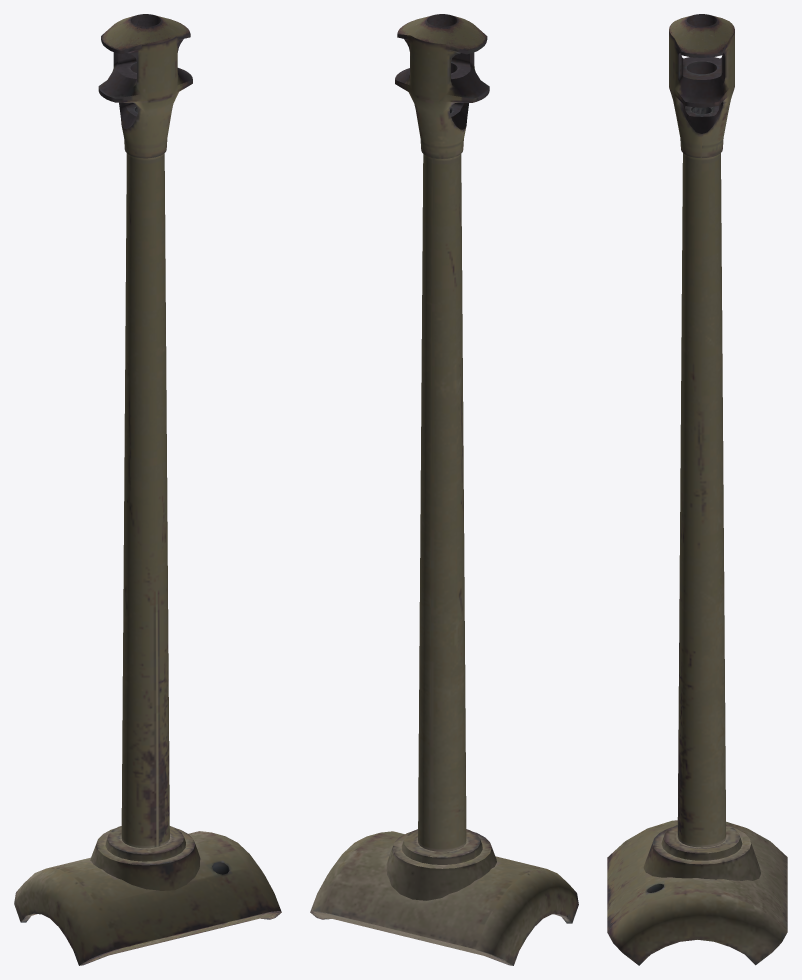
The model's file is Gun_01.glb.
3 views of the same model, side by side, from view 1: azimuth 30°, elevation 25°; view 2: azimuth 150°, elevation 25°; view 3: azimuth 270°, elevation 25° (orthographic).
Parts seen in each view (by area): view 1: set_0_group_0; view 2: set_0_group_0; view 3: set_0_group_0.
Boxes of the visible parts, x1=… form: set_0_group_0: x1=14, y1=14, x2=281, y2=965; set_0_group_0: x1=310, y1=14, x2=578, y2=965; set_0_group_0: x1=607, y1=14, x2=787, y2=965.
Bounding box in the file's own units: 1.02 × 4.48 × 0.8166.
1 material, 1 textured.
